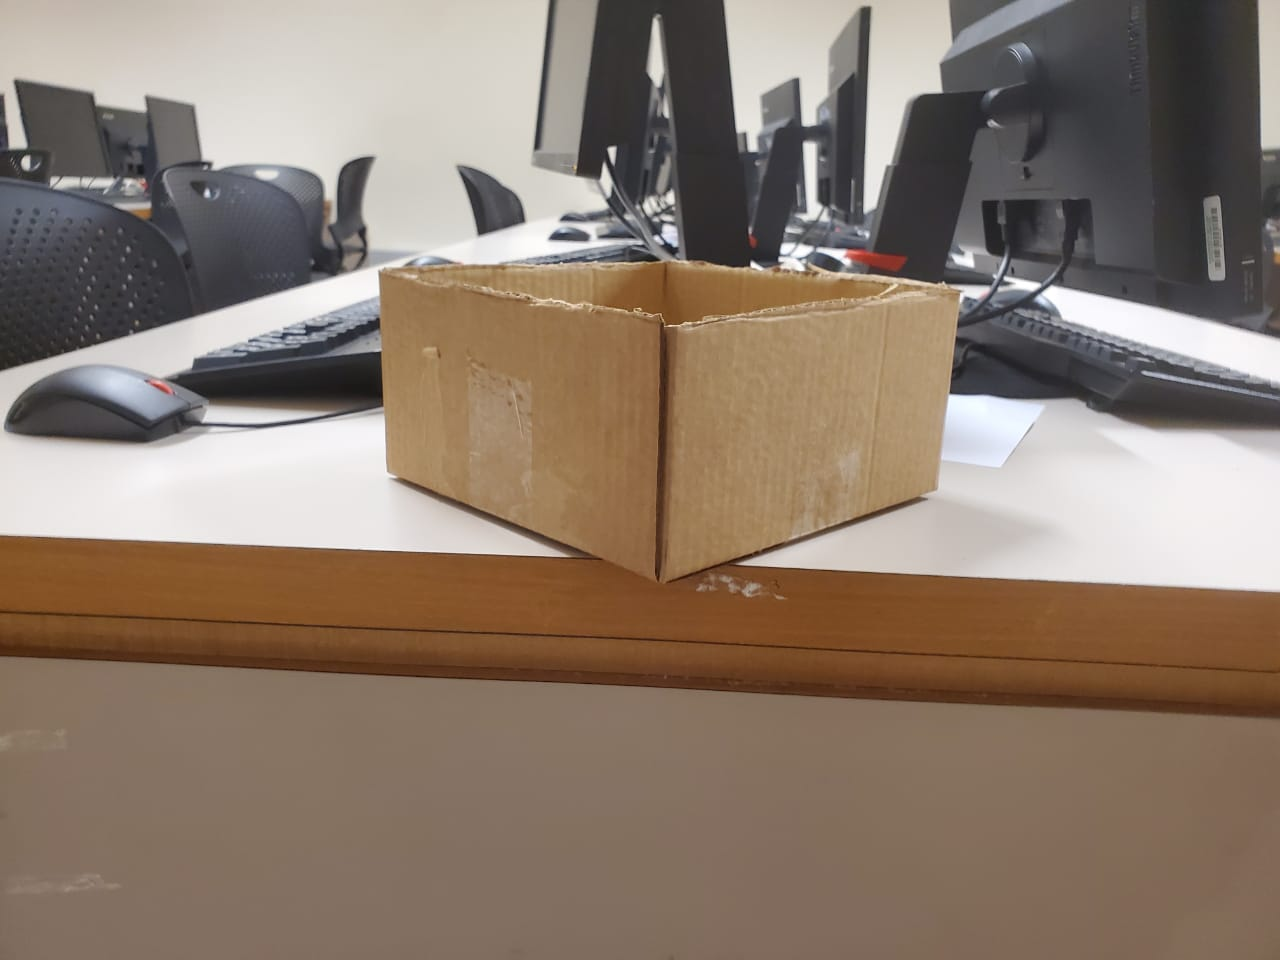CBox: (373, 252, 970, 586)
